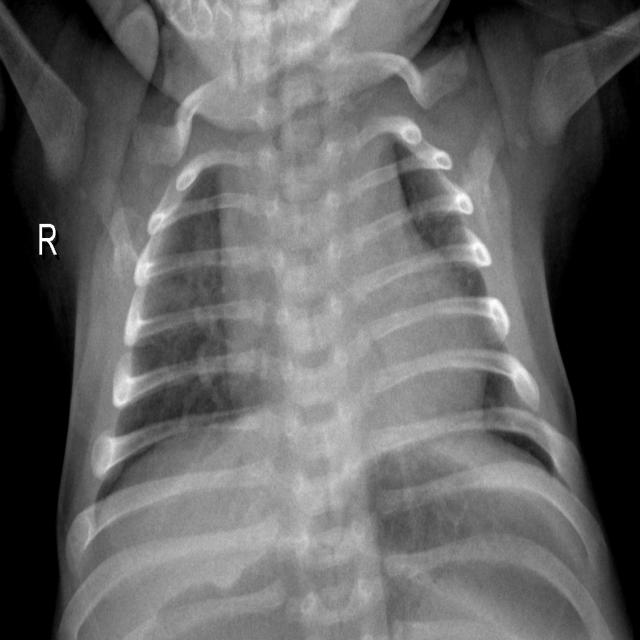no-pneumonia: (114, 156, 235, 435), (395, 141, 511, 343)
